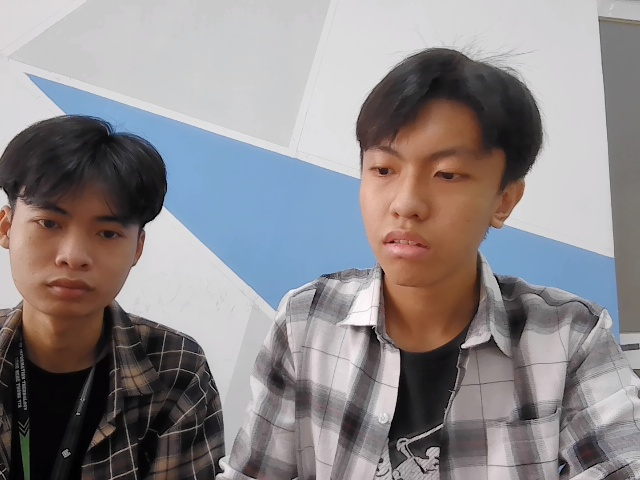human: (354, 50, 544, 292), (1, 115, 169, 318)
